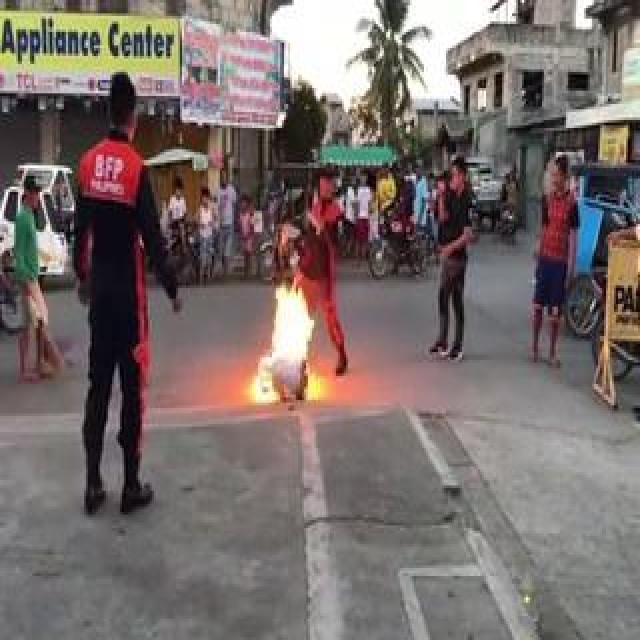Smoke: (255, 279, 315, 401)
